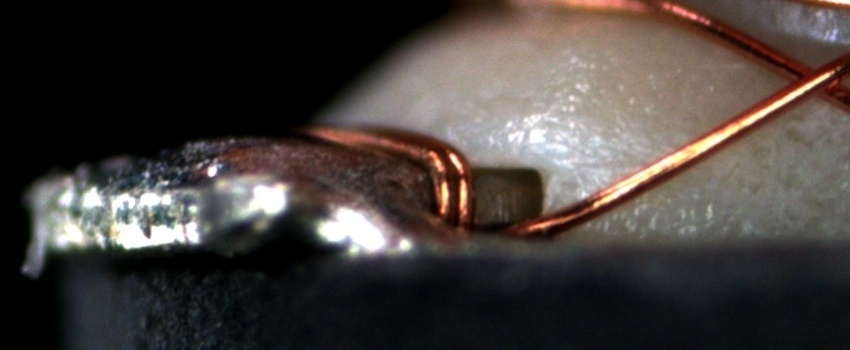CL: (771, 49, 846, 107)
DL: (573, 146, 697, 193)
TE: (301, 123, 477, 230)
